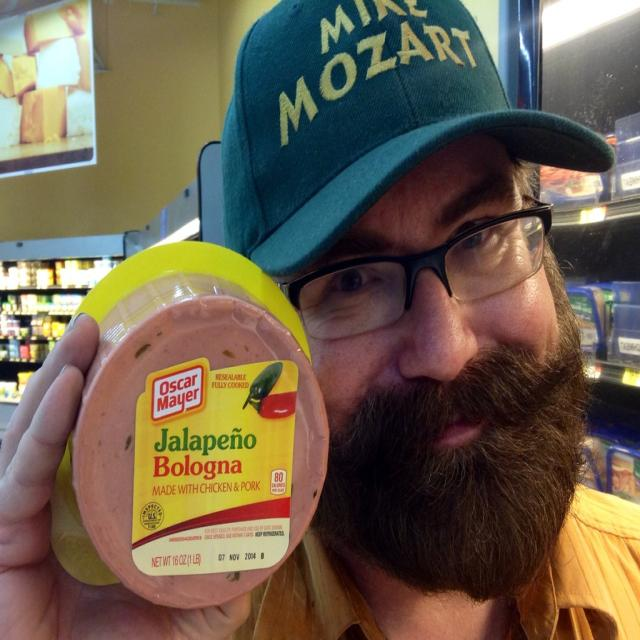Hat: (222, 0, 618, 276)
